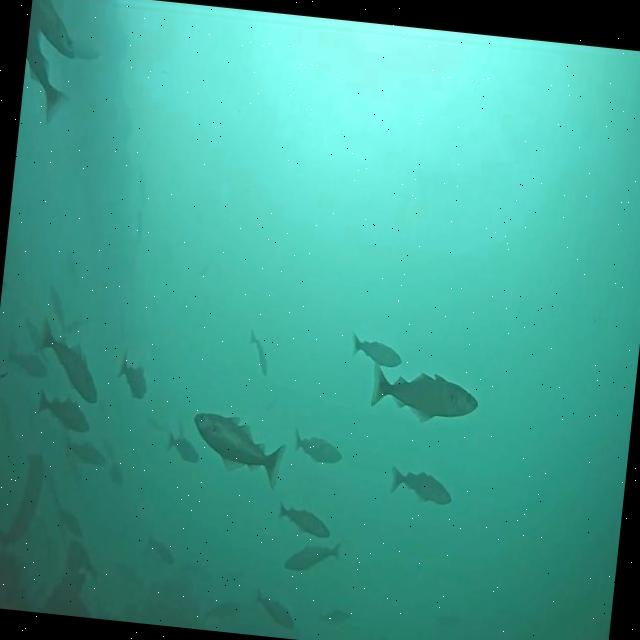fish: (369, 363, 482, 428), (192, 412, 286, 485), (19, 16, 76, 123), (36, 323, 103, 402), (26, 0, 81, 59), (388, 463, 454, 505), (36, 391, 94, 434), (277, 500, 333, 538), (349, 332, 404, 370), (284, 536, 340, 572), (292, 428, 345, 466), (252, 589, 296, 631), (116, 353, 150, 398), (65, 540, 101, 578), (244, 328, 270, 378), (6, 347, 48, 377), (37, 464, 63, 511), (64, 438, 106, 465), (166, 433, 202, 463), (45, 286, 68, 331), (24, 322, 50, 361), (202, 598, 240, 618), (56, 508, 84, 534), (144, 538, 172, 560), (321, 608, 350, 622)
